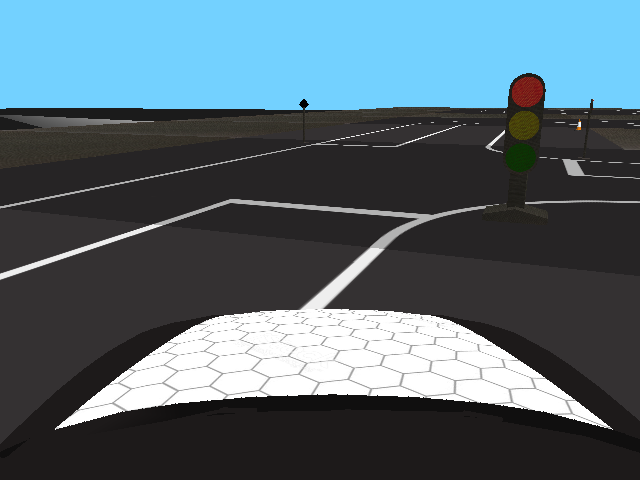red_light: (504, 73, 544, 174)
